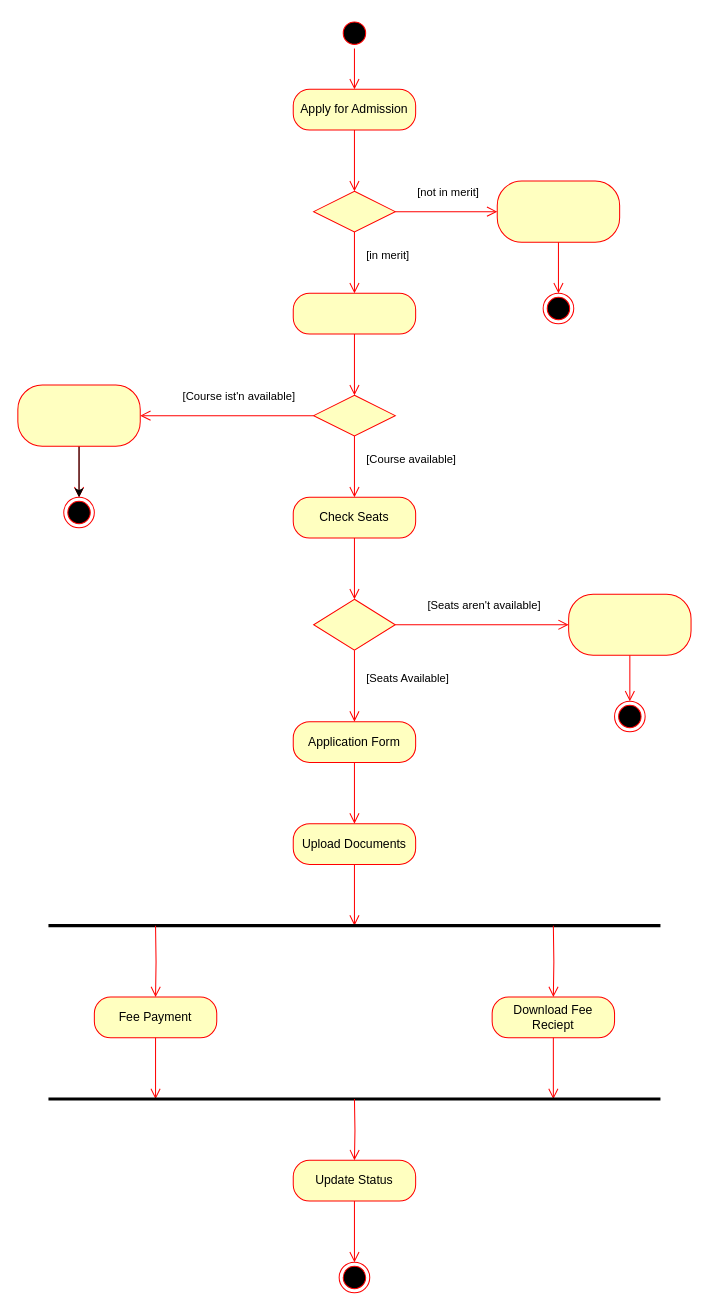
Image size: 709x1311. Some labels were removed from this diagram. The centre of each missing label's shape, as x and y in pixels:
Alert"Apply for another college": the point at 558,211
Alert"Seats aren't available": the point at 629,624
Alert"This course isn't available": the point at 78,415
Courses: the point at 354,313
